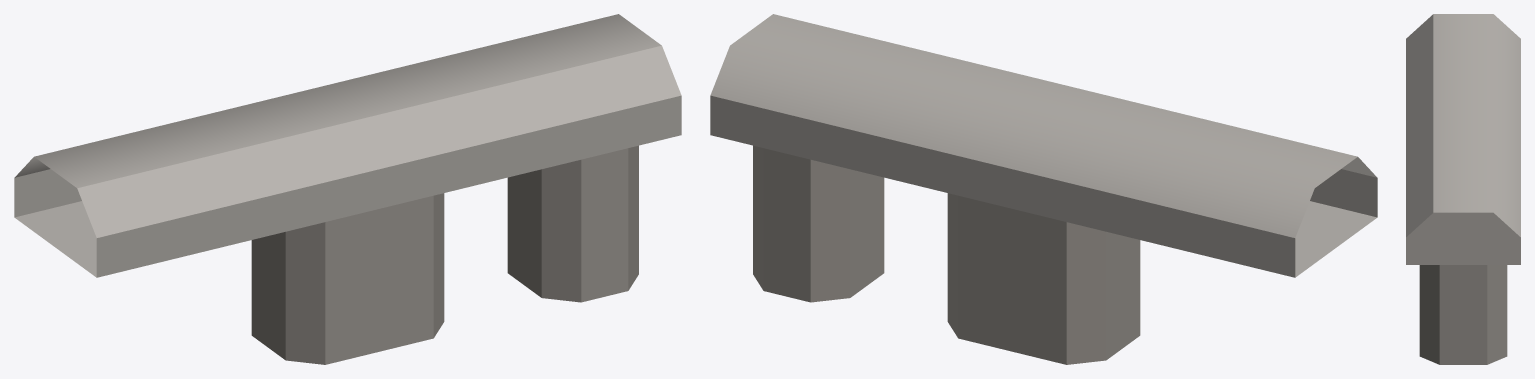
The model's file is Stage Fence 01 End.FBX.
3 renders of one model, left to right at view 1: azimuth 30°, elevation 25°; view 2: azimuth 150°, elevation 25°; view 3: azimuth 270°, elevation 25°, orthographic. The views are drawn at different scales.
Visible parts, largest first — view 1: Stage Fence 01 End; view 2: Stage Fence 01 End; view 3: Stage Fence 01 End.
Boxes of the visible parts, box(x1,y1,x2,y2) form: Stage Fence 01 End: box(14, 14, 681, 364); Stage Fence 01 End: box(710, 14, 1377, 364); Stage Fence 01 End: box(1406, 14, 1520, 364).
Bounding box in the file's own units: 100 × 37.18 × 24.42.
Materials: 1 (1 with a texture image).
